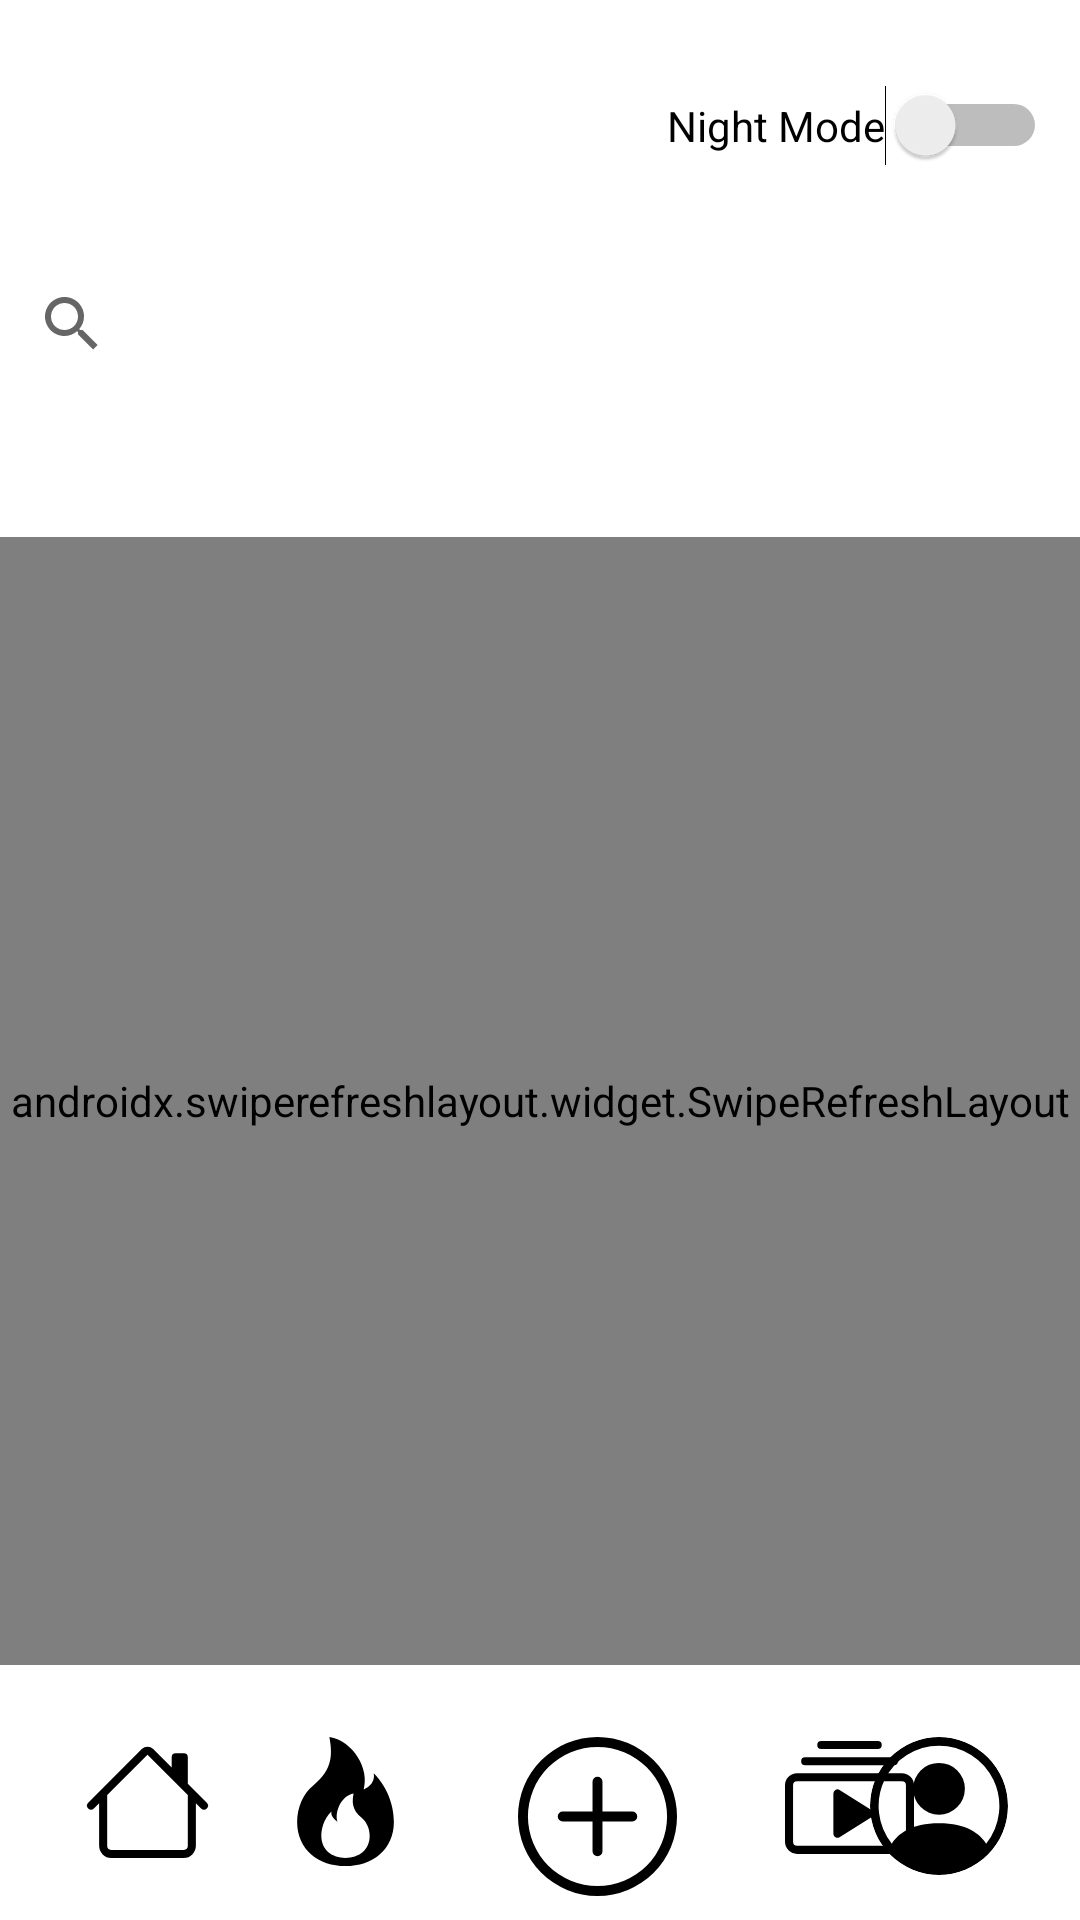

Icon click points for this 1080px x 1920px phone screenshot, format (x=x, y=y):
home: (x=147, y=1802)
plus: (x=597, y=1816)
trends: (x=345, y=1801)
